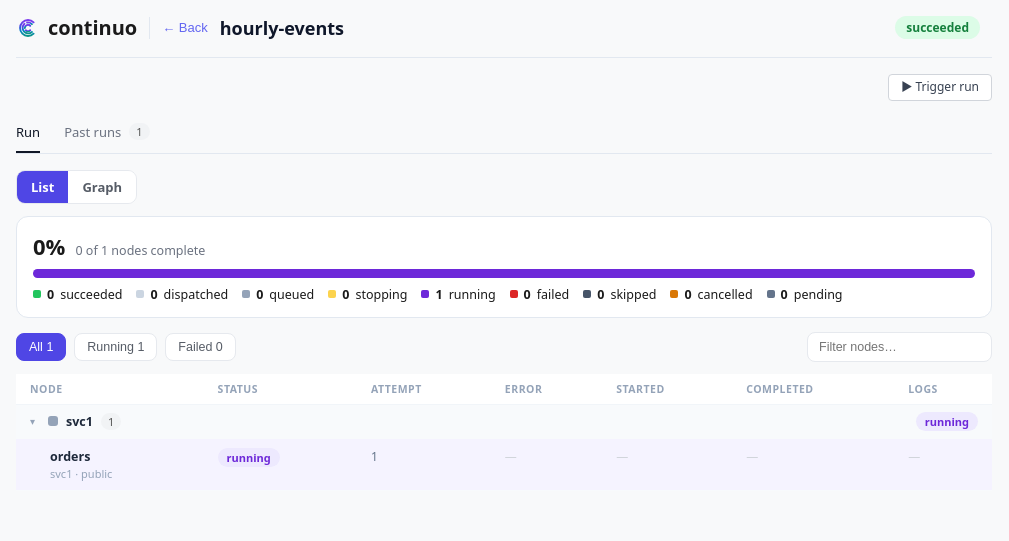
it: DetailPage — arrival and teardown › keeps the new run's rows when the old run's final read lands late
This screenshot has width=1009, height=541.
Expected: the text "orders" is shown, [50, 448, 90, 465]
Click the tab "Past runs 1" at (107, 132), box [64, 123, 150, 141]
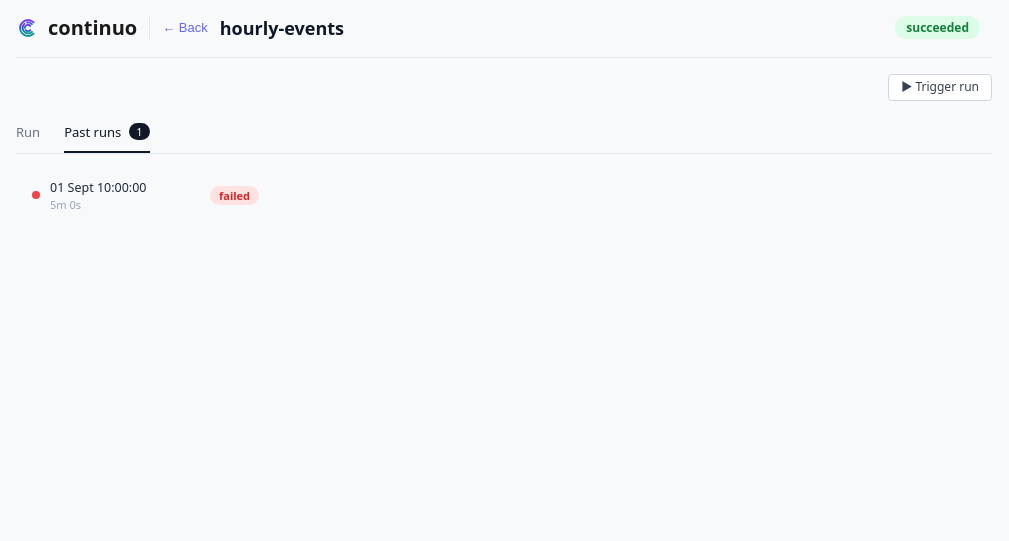
Result: the number of buttons with class "run-row" is 1
Click the button with class "run-row" at (98, 187), box [16, 170, 992, 221]
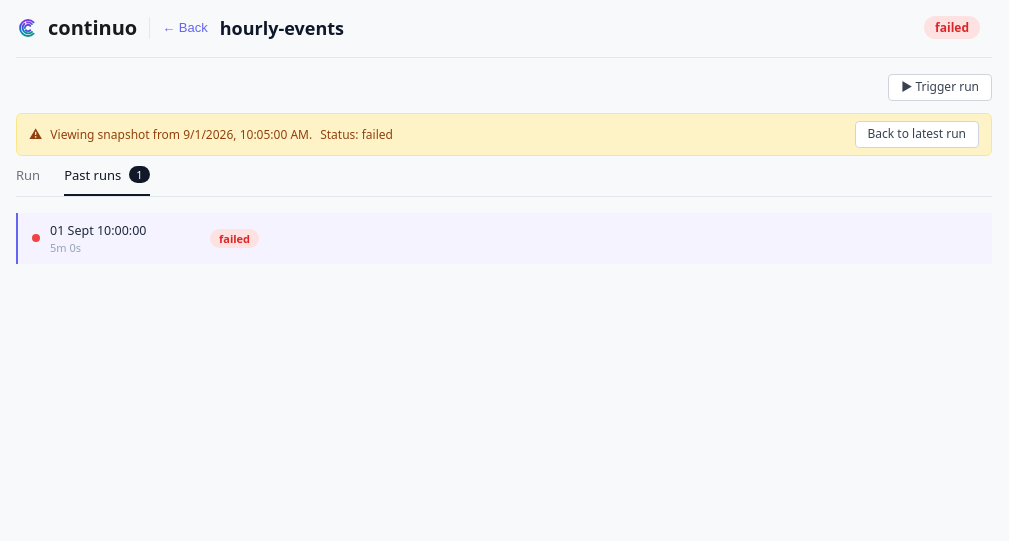
Click the tab "Run" at (28, 175), box [16, 166, 40, 184]
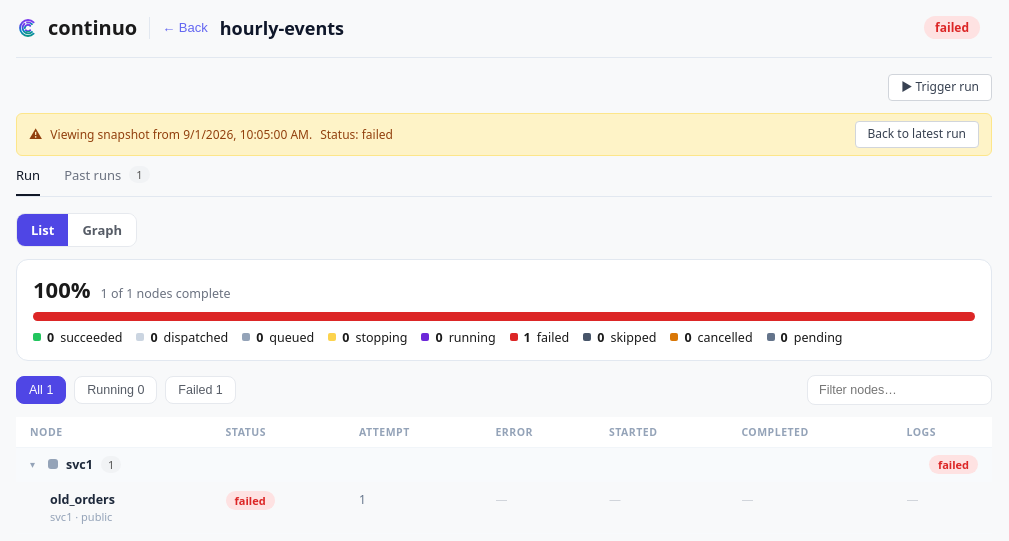
Result: the text "old_orders" is shown at [50, 491, 115, 508]
